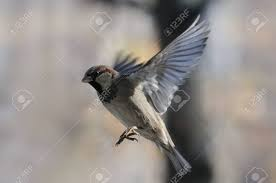hsparrow: (80, 10, 213, 170)
